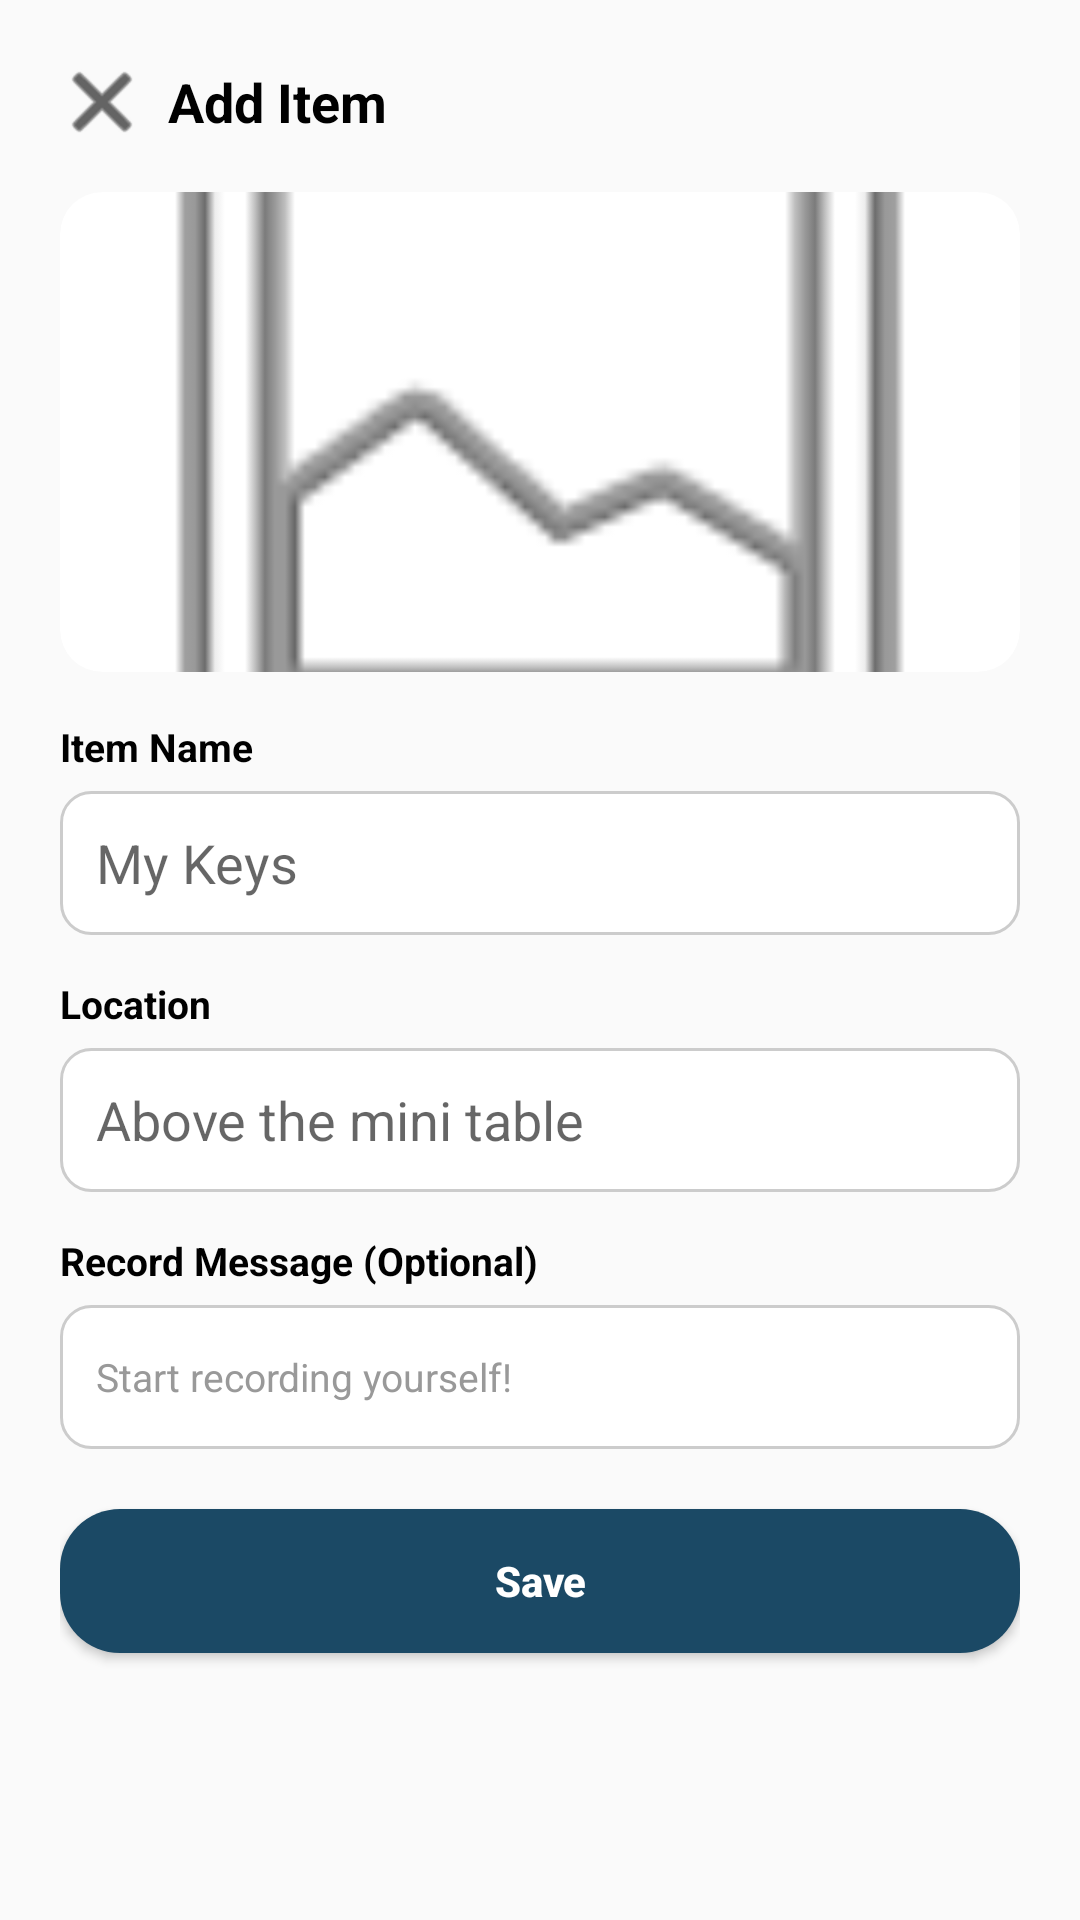

Icons on this 1080x1920 Android screen, each with its box as (x1, y1, x2, y2):
close clear cancel: (72, 72, 132, 132)
